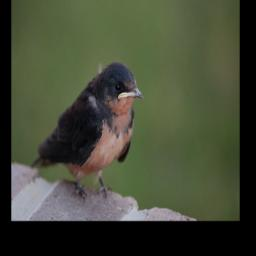Swallow: (31, 60, 144, 202)
